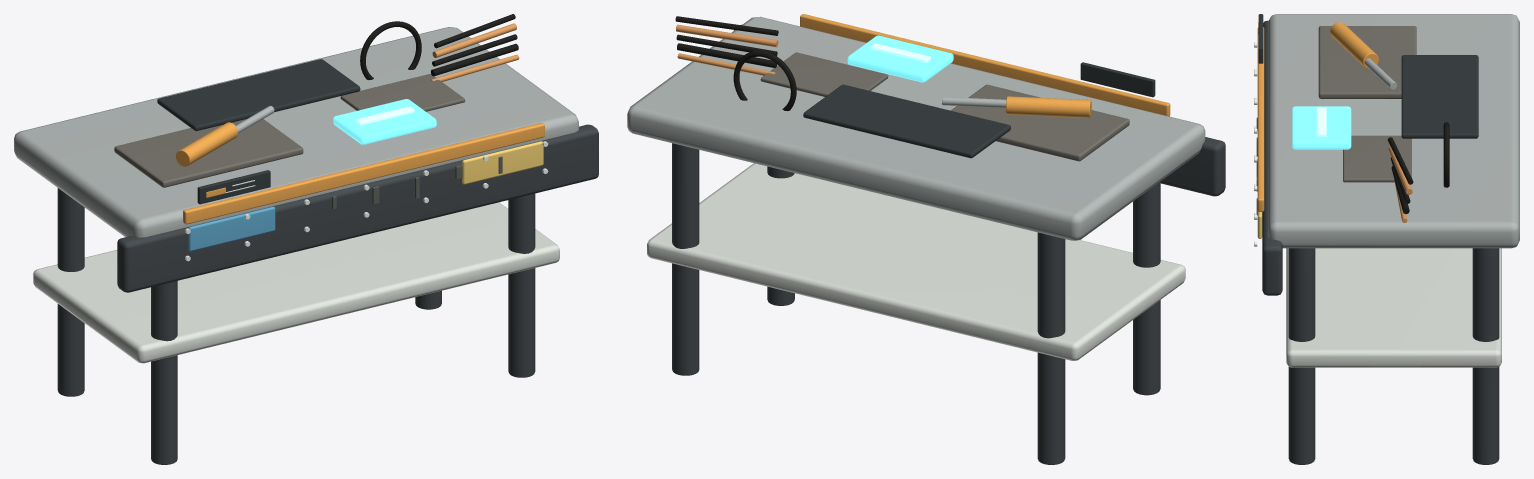
Rendered from hp_room_table_utility.glb.
3 renders of one model, left to right at view 1: azimuth 30°, elevation 25°; view 2: azimuth 150°, elevation 25°; view 3: azimuth 270°, elevation 25°, orthographic. The views are drawn at different scales.
Parts seen in each view (by area): view 1: room_table_utility_body_top, room_table_utility_lower_shelf, room_table_utility_panel_front_lip, room_table_utility_surface_inset_panel, room_table_utility_tool_tray_recess, room_table_utility_warning_edge, room_table_utility_leg_r_f, room_table_utility_leg_l_b, room_table_utility_leg_l_f, room_table_utility_tray_shadow, room_table_utility_surface_datapad, room_table_utility_left_table_color_field_art_color_block (+6 smaller); view 2: room_table_utility_lower_shelf, room_table_utility_body_top, room_table_utility_surface_inset_panel, room_table_utility_leg_l_b, room_table_utility_leg_r_b, room_table_utility_tool_tray_recess, room_table_utility_leg_l_f, room_table_utility_warning_edge, room_table_utility_tray_shadow, room_table_utility_surface_datapad, room_table_utility_panel_front_lip, room_table_utility_loose_driver_handle (+6 smaller); view 3: room_table_utility_body_top, room_table_utility_lower_shelf, room_table_utility_surface_inset_panel, room_table_utility_tool_tray_recess, room_table_utility_leg_r_b, room_table_utility_leg_r_f, room_table_utility_tray_shadow, room_table_utility_surface_datapad, room_table_utility_panel_front_lip, room_table_utility_warning_edge, room_table_utility_loose_driver_handle, room_table_utility_cable_coil (+5 smaller).
Boxes of the visible parts, x1=… form: room_table_utility_body_top: x1=14, y1=27, x2=578, y2=237; room_table_utility_lower_shelf: x1=33, y1=202, x2=559, y2=363; room_table_utility_panel_front_lip: x1=117, y1=124, x2=598, y2=292; room_table_utility_surface_inset_panel: x1=157, y1=59, x2=360, y2=130; room_table_utility_tool_tray_recess: x1=114, y1=119, x2=303, y2=187; room_table_utility_warning_edge: x1=183, y1=123, x2=544, y2=224; room_table_utility_leg_r_f: x1=508, y1=193, x2=535, y2=377; room_table_utility_leg_l_b: x1=57, y1=188, x2=84, y2=396; room_table_utility_leg_l_f: x1=151, y1=281, x2=177, y2=464; room_table_utility_tray_shadow: x1=340, y1=74, x2=465, y2=111; room_table_utility_surface_datapad: x1=333, y1=99, x2=436, y2=144; room_table_utility_left_table_color_field_art_color_block: x1=188, y1=206, x2=275, y2=251; room_table_utility_lower_shelf: x1=647, y1=163, x2=1185, y2=360; room_table_utility_body_top: x1=627, y1=16, x2=1205, y2=240; room_table_utility_surface_inset_panel: x1=803, y1=84, x2=1010, y2=158; room_table_utility_leg_l_b: x1=1037, y1=232, x2=1065, y2=464; room_table_utility_leg_r_b: x1=672, y1=143, x2=699, y2=375; room_table_utility_tool_tray_recess: x1=951, y1=84, x2=1129, y2=161; room_table_utility_leg_l_f: x1=1133, y1=181, x2=1160, y2=395; room_table_utility_warning_edge: x1=800, y1=14, x2=1170, y2=116; room_table_utility_tray_shadow: x1=760, y1=52, x2=888, y2=96; room_table_utility_surface_datapad: x1=847, y1=35, x2=953, y2=82; room_table_utility_panel_front_lip: x1=734, y1=24, x2=1225, y2=196; room_table_utility_loose_driver_handle: x1=1006, y1=96, x2=1091, y2=117; room_table_utility_body_top: x1=1268, y1=14, x2=1519, y2=248; room_table_utility_lower_shelf: x1=1286, y1=248, x2=1501, y2=367; room_table_utility_surface_inset_panel: x1=1401, y1=55, x2=1478, y2=138; room_table_utility_tool_tray_recess: x1=1318, y1=26, x2=1416, y2=98; room_table_utility_leg_r_b: x1=1472, y1=248, x2=1499, y2=464; room_table_utility_leg_r_f: x1=1288, y1=248, x2=1315, y2=464; room_table_utility_tray_shadow: x1=1343, y1=135, x2=1411, y2=182; room_table_utility_surface_datapad: x1=1292, y1=106, x2=1351, y2=149; room_table_utility_panel_front_lip: x1=1262, y1=20, x2=1282, y2=295; room_table_utility_warning_edge: x1=1257, y1=27, x2=1264, y2=211; room_table_utility_loose_driver_handle: x1=1330, y1=22, x2=1378, y2=69; room_table_utility_cable_coil: x1=1443, y1=122, x2=1449, y2=187.
Size of the model in its own units: 1.65 by 1.03 by 0.8088.
